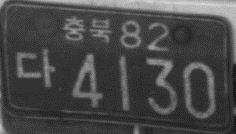0: (183, 60, 216, 118)
1: (110, 55, 139, 111)
2: (146, 21, 170, 52)
3: (145, 57, 177, 116)
4: (71, 52, 103, 109)
8: (120, 19, 141, 49)
다: (15, 47, 56, 87)
충북_O: (63, 14, 111, 43)
